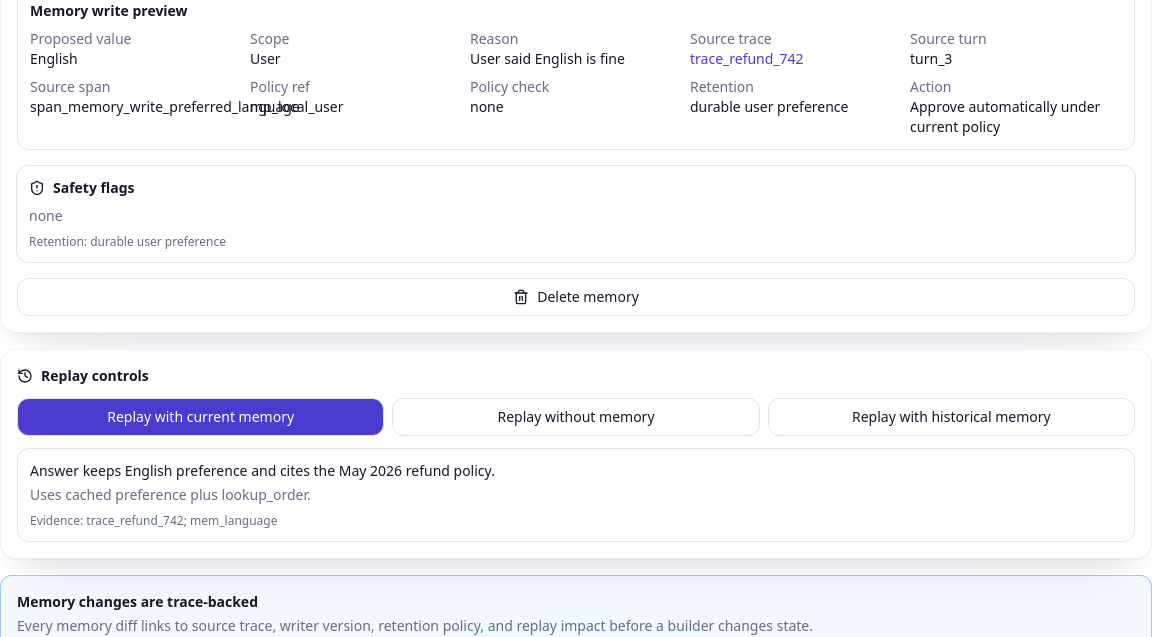
it: MemoryStudio › requires backend deletion wiring and explains blocked scratch deletion
(page scrolled)
Click the button with test id "memory-delete" at point(576, 297), box [17,278,1135,316]
(page scrolled)
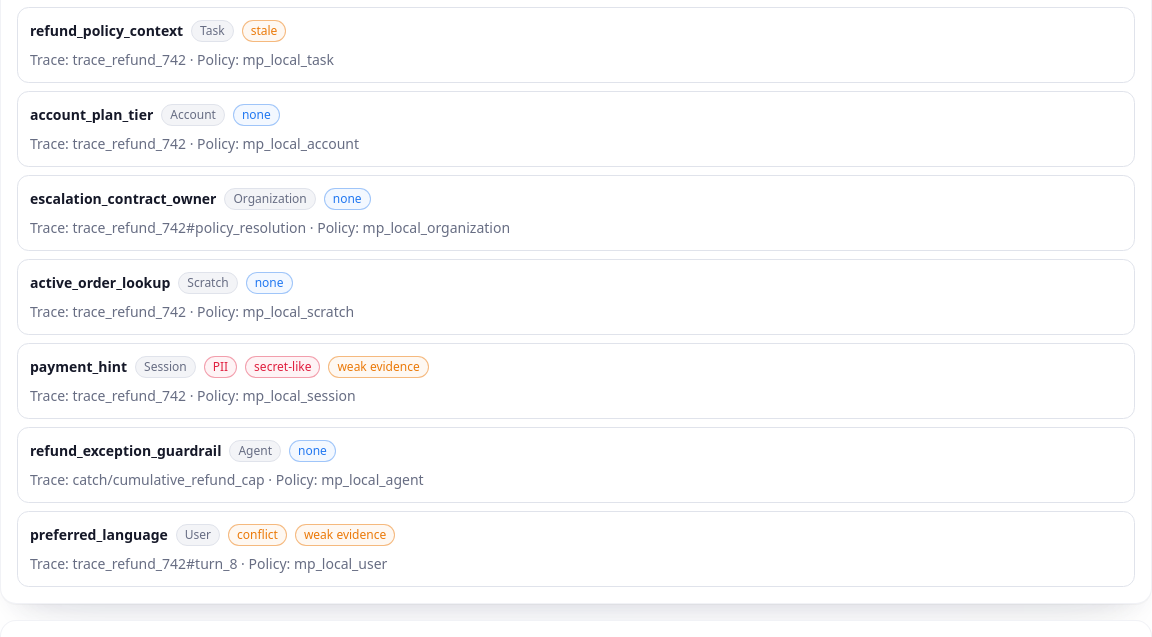
Click the button with test id "memory-entry-mem_scratch_order" at point(100, 283), box [17,259,1135,335]
(page scrolled)
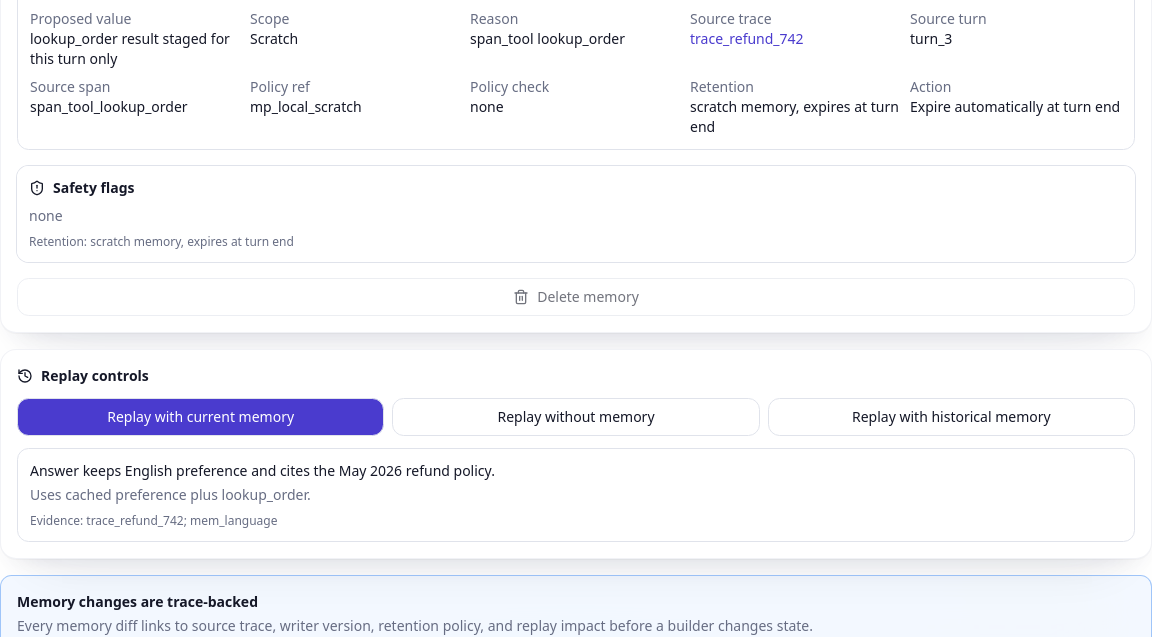
Result: the button with test id "memory-delete" is disabled at [17,278,1135,316]
